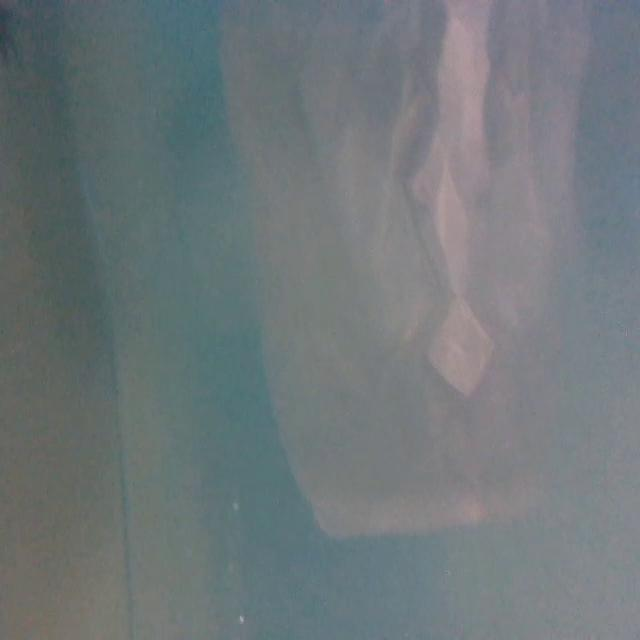plastic bags: (256, 4, 582, 540)
